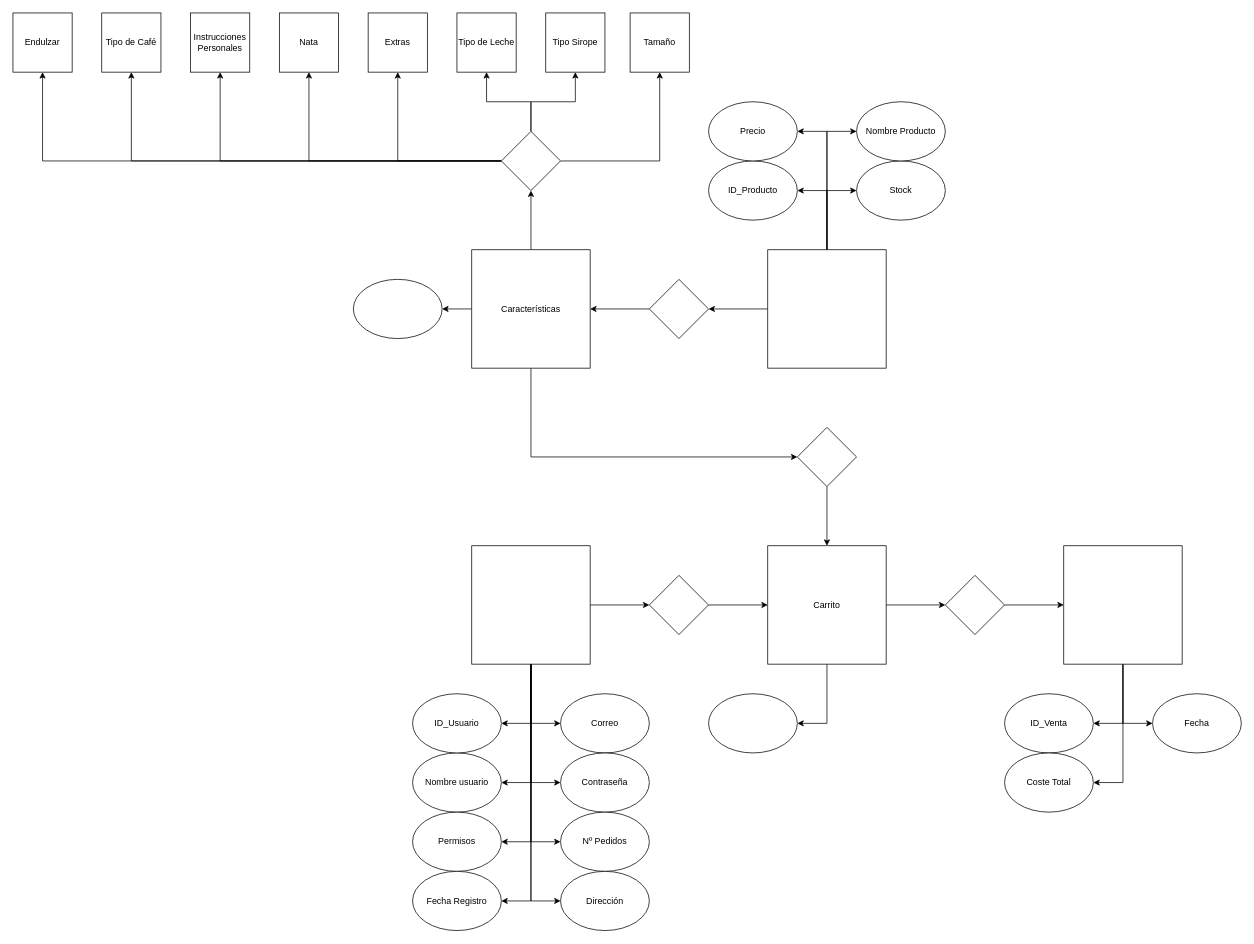
The diagram is 1254 pixels wide and 944 high, and some of its shapes have lost their labels. The shapes that lost their labels are listed below. From the top down, each one's centre as x and y in pixels, then its label:
the point at 531,161: Contienen
the point at 397,309: ID_Caracteristicas
the point at 679,309: Se piden con
the point at 826,308: Productos
the point at 827,457: Se meten en
the point at 530,604: Usuario
the point at 679,605: Tiene
the point at 975,605: Termina en
the point at 1122,604: Ventas
the point at 752,723: ID_Carrito
